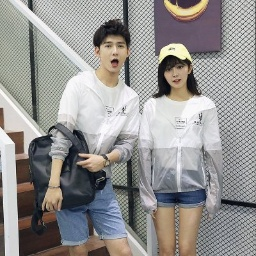face: (94, 18, 131, 76), (155, 56, 200, 96)
